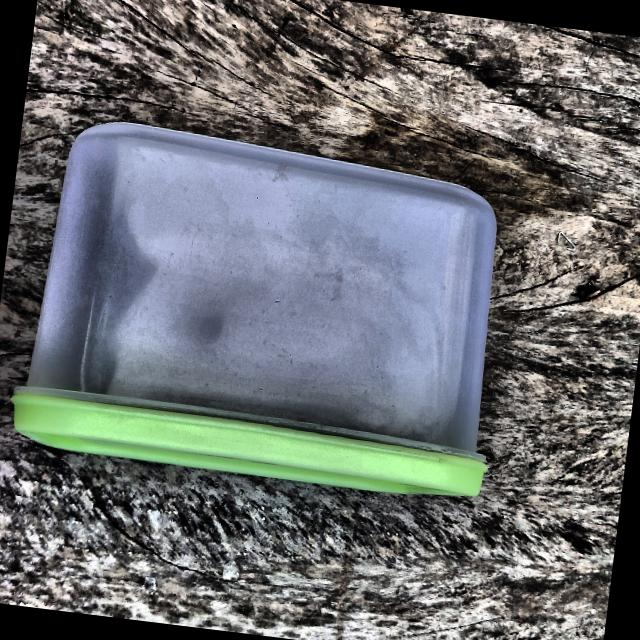plastic container: (4, 105, 535, 522)
